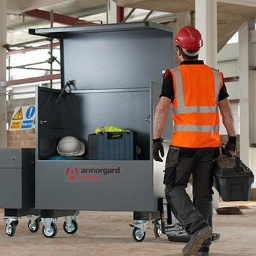helmet: (172, 25, 207, 55)
person: (156, 24, 238, 250)
vest: (168, 58, 223, 149)
